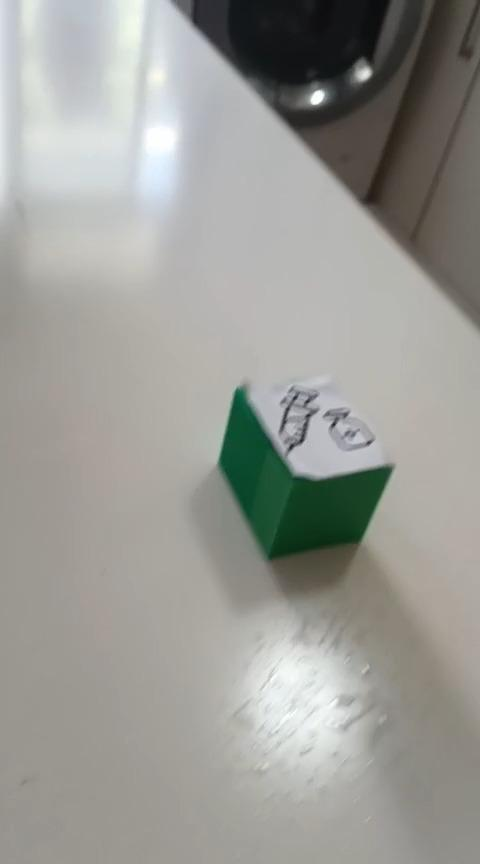antiseptic cream: (215, 370, 396, 561)
